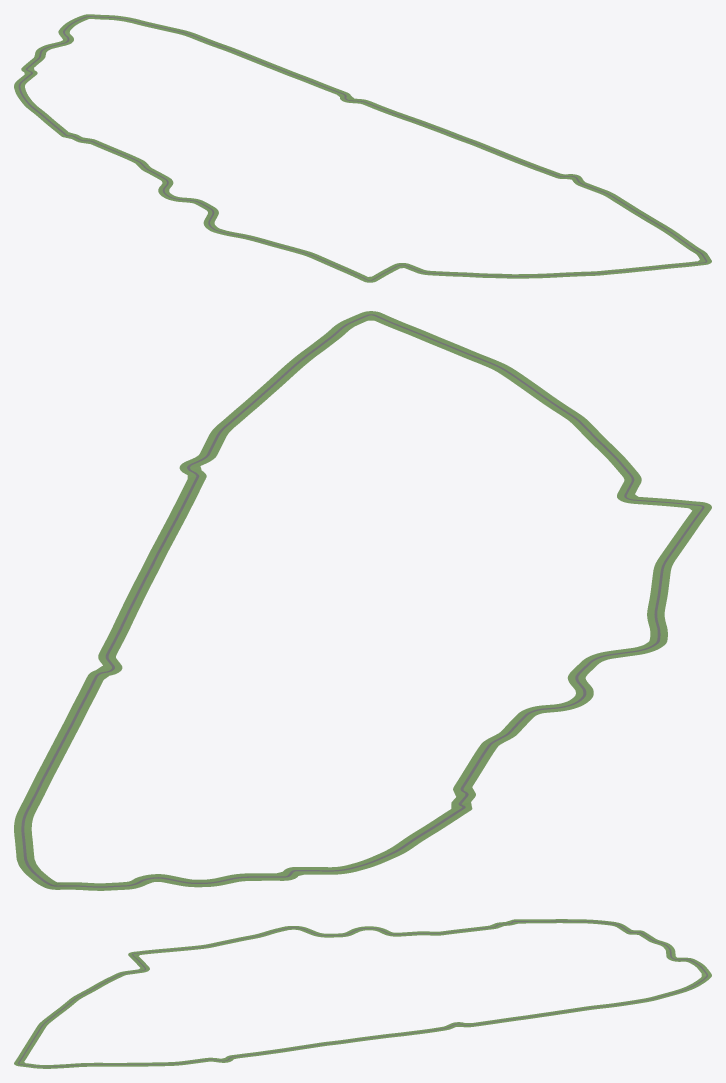
File: road_mesh.glb
The picture shows the model from 3 angles, top to bottom: view 1: azimuth 30°, elevation 25°; view 2: azimuth 150°, elevation 25°; view 3: azimuth 270°, elevation 25°; orthographic projection. The views are drawn at different scales.
Size of the model in its own units: 2789 by 37.72 by 5466.
